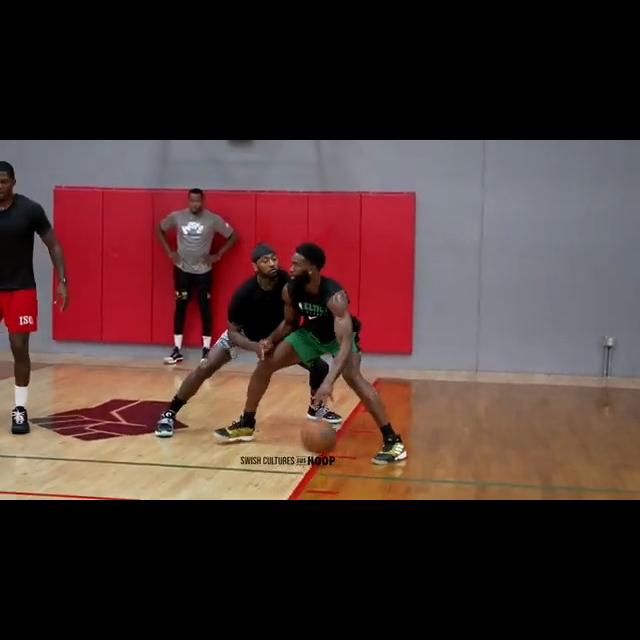basketball: (301, 419, 338, 454)
